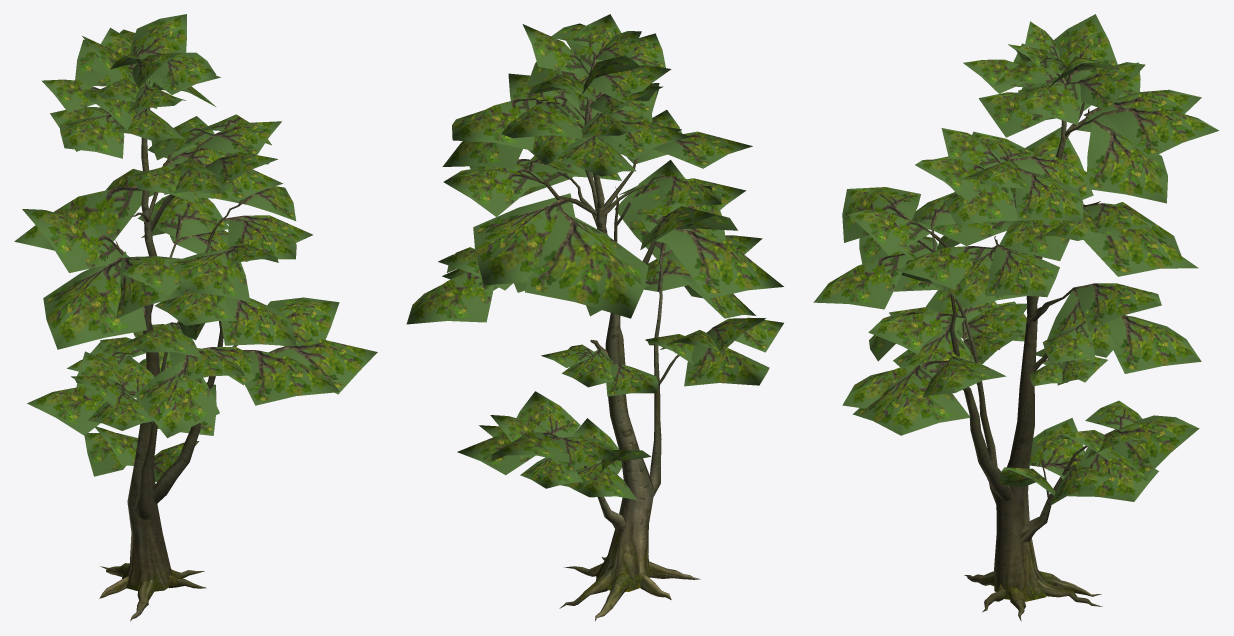
The model's file is Scene_Tree_Huashu_1.FBX.
3 views of the same model, side by side, from view 1: azimuth 30°, elevation 25°; view 2: azimuth 150°, elevation 25°; view 3: azimuth 270°, elevation 25° (orthographic). The views are drawn at different scales.
Parts seen in each view (by area): view 1: Scene_Tree_Huashuye_1, Scene_Tree_HuashuGan_1; view 2: Scene_Tree_Huashuye_1, Scene_Tree_HuashuGan_1; view 3: Scene_Tree_Huashuye_1, Scene_Tree_HuashuGan_1.
Part boxes in pixels (box(x1,y1,x2,y2)): Scene_Tree_Huashuye_1: box(14, 14, 377, 481); Scene_Tree_HuashuGan_1: box(99, 79, 245, 621); Scene_Tree_Huashuye_1: box(406, 14, 783, 500); Scene_Tree_HuashuGan_1: box(518, 79, 700, 621); Scene_Tree_Huashuye_1: box(813, 14, 1219, 505); Scene_Tree_HuashuGan_1: box(915, 102, 1116, 621).
Bounding box in the file's own units: 1010 × 1756 × 1130.
